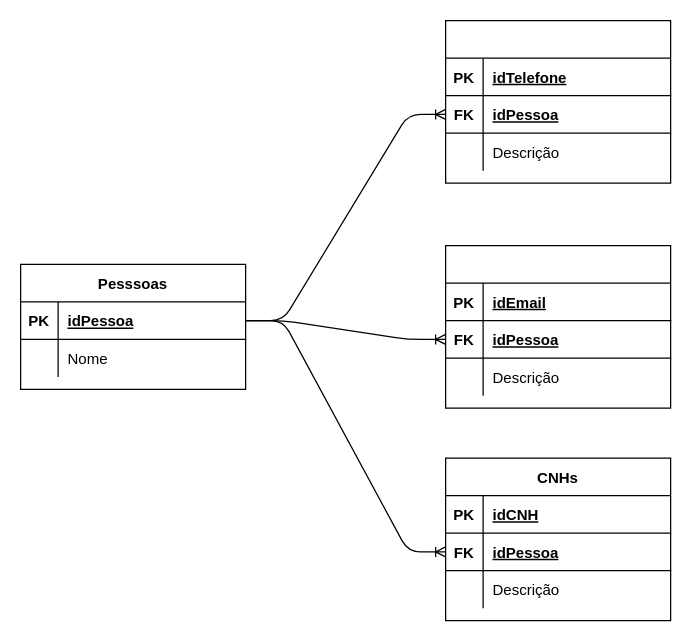
The diagram is 691 pixels wide and 641 high, and some of its shapes have lost their labels. Each missing label, with the box of its shape:
Emails: (444, 244, 671, 408)
telefones: (444, 19, 671, 183)
